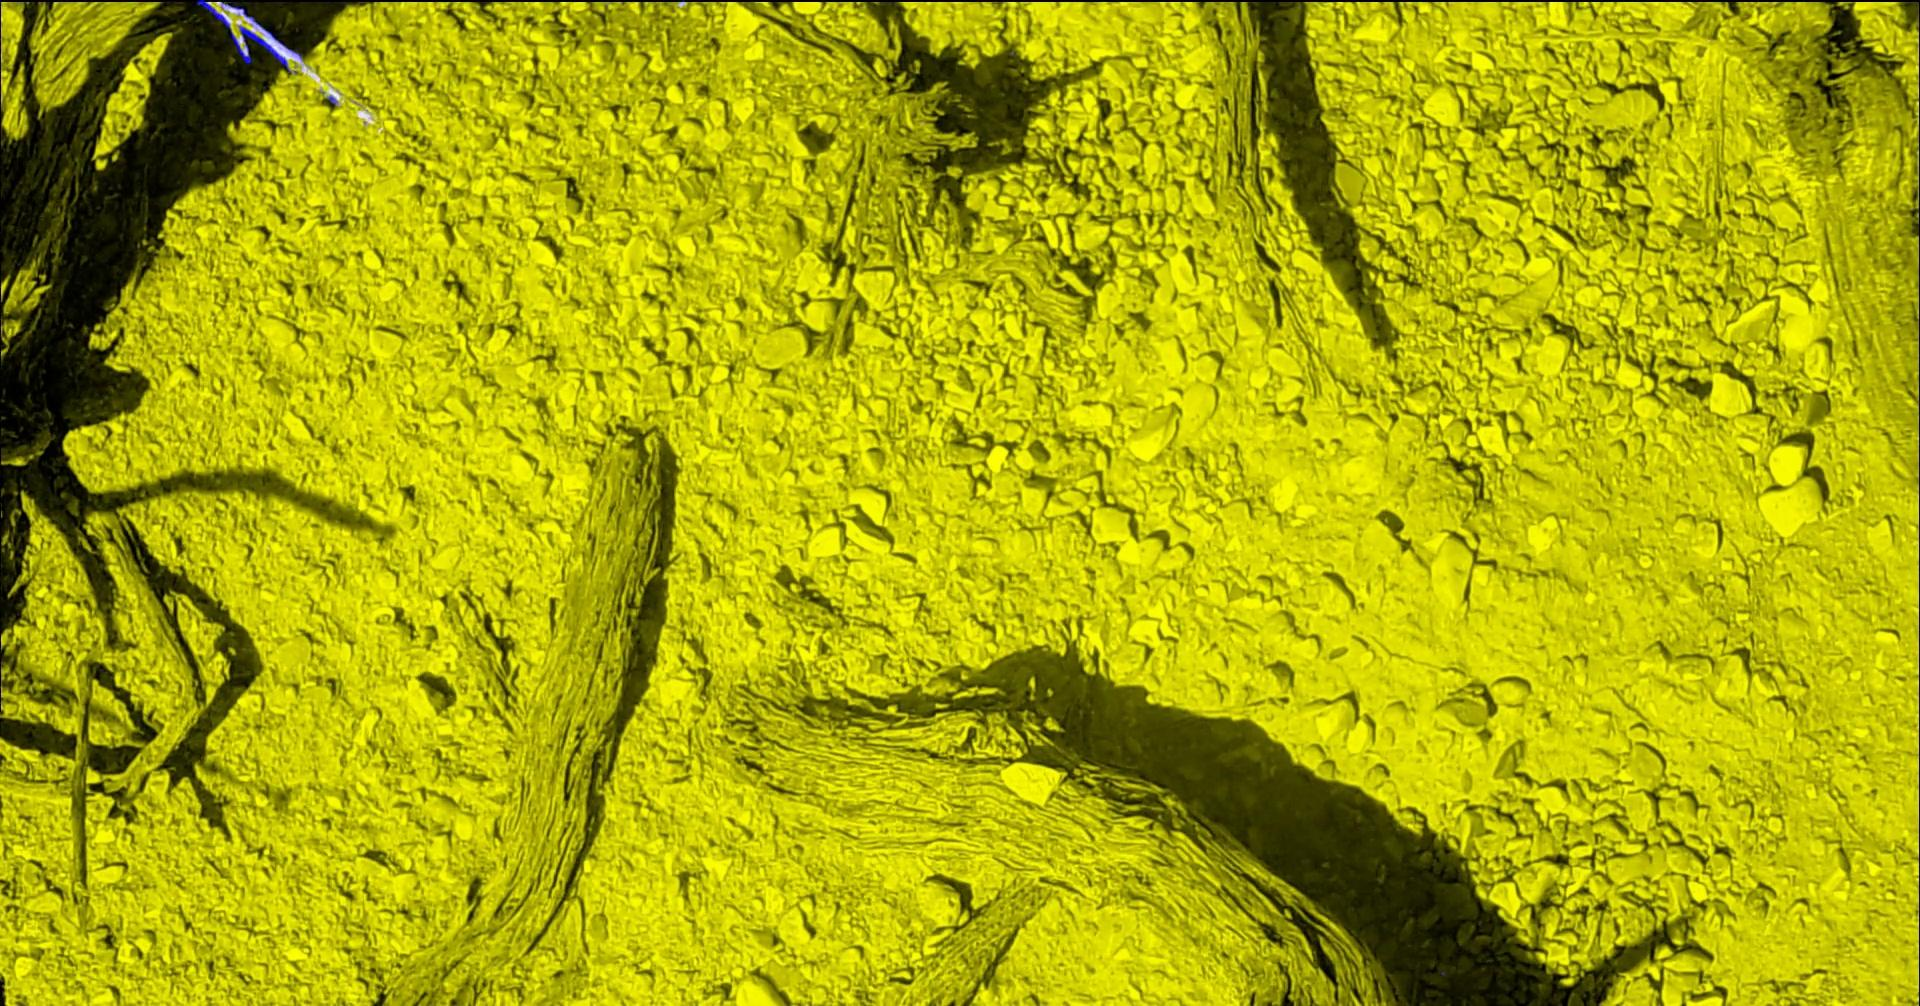ant: (196, 0, 296, 72), (218, 0, 302, 58)
